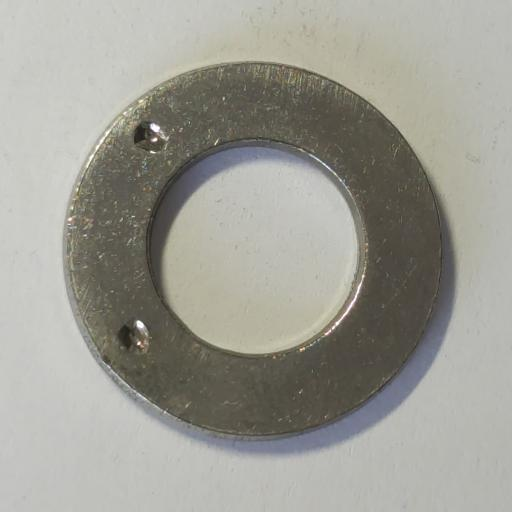circular_cavity: (115, 317, 152, 355), (134, 121, 170, 154)
